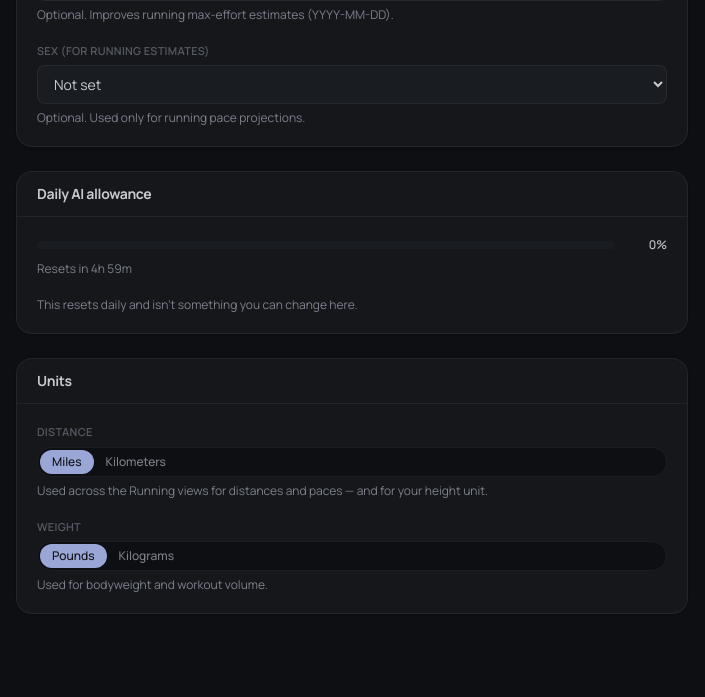
it: Settings — units › makes the weight toggle draftable rather than saving immediately
The image size is (705, 697).
(page scrolled)
Click the button "Kilograms" at point(146, 556), box [107,544,186,568]
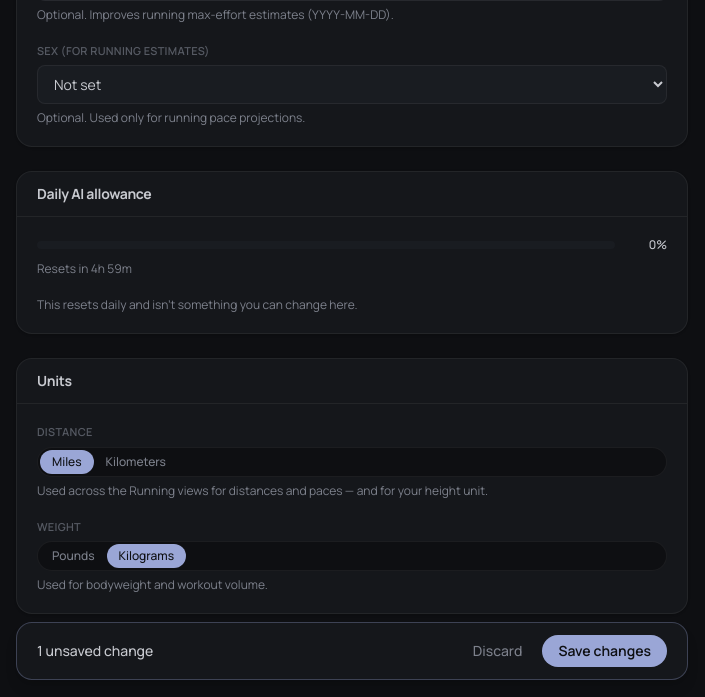
Now the text "1 unsaved change" is shown, box [37,641,153,661]
